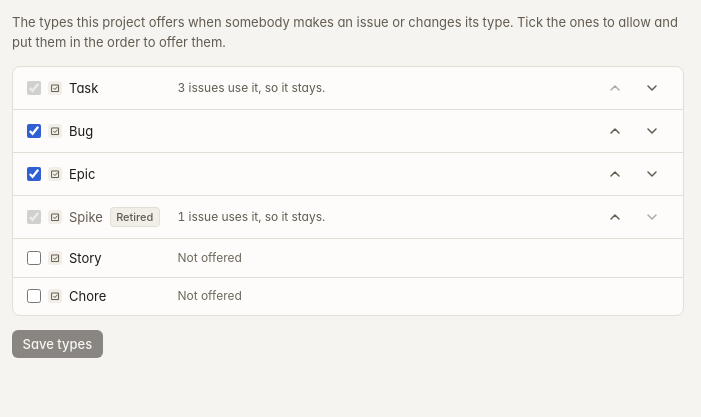
Test: the Issue types tab › says the server's sentence when it refuses
This screenshot has width=701, height=417.
Step 1. Click the checkbox named "Allow Bug" → {"x": 34, "y": 131}, box [27,124,41,138]
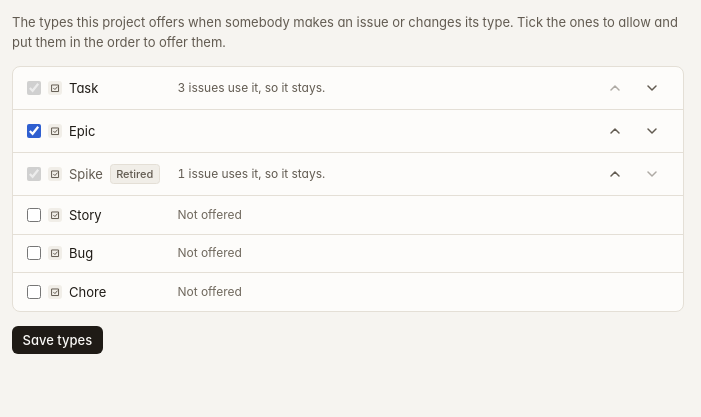
Step 2. Click the button "Save types" → {"x": 57, "y": 340}, box [12,326,103,354]
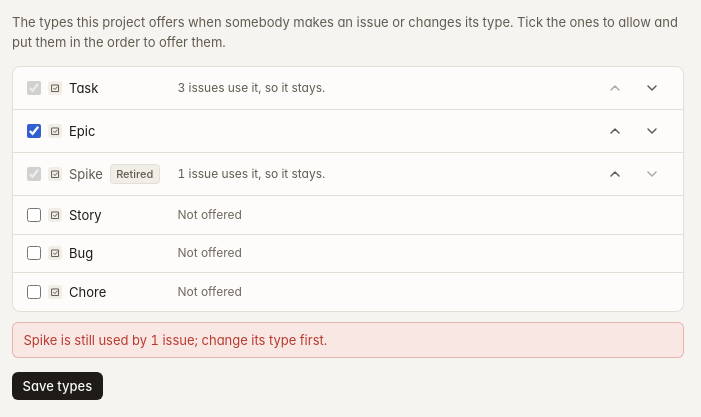
Expected: the message reads "Spike is still used by 1 issue; change its type first.", [24,332,327,348]
